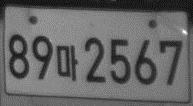2: (83, 37, 107, 83)
5: (109, 37, 131, 84)
6: (133, 38, 159, 85)
7: (158, 38, 183, 87)
8: (8, 34, 29, 78)
9: (31, 34, 53, 80)
마: (55, 45, 79, 82)
